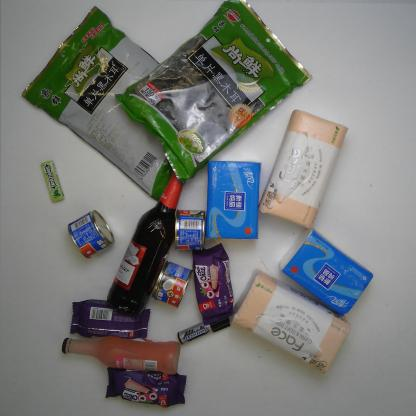Alcohol: (105, 172, 186, 317), (61, 335, 181, 376)
Canned Food: (67, 209, 115, 259), (150, 259, 194, 309), (174, 208, 206, 252)
Dessert: (192, 241, 234, 326), (69, 299, 151, 340), (105, 367, 187, 408)
Dried Food: (111, 0, 314, 188), (19, 4, 174, 204)
Gum: (40, 160, 65, 203)
Stationery: (177, 315, 231, 346)
Tissue: (228, 267, 350, 375), (258, 108, 350, 230), (278, 226, 375, 317), (204, 160, 262, 239)
